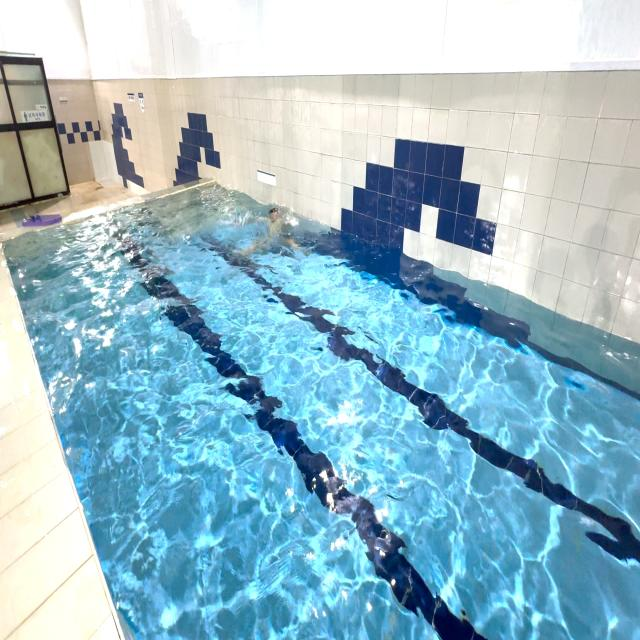Drowning: (231, 188, 315, 277)
